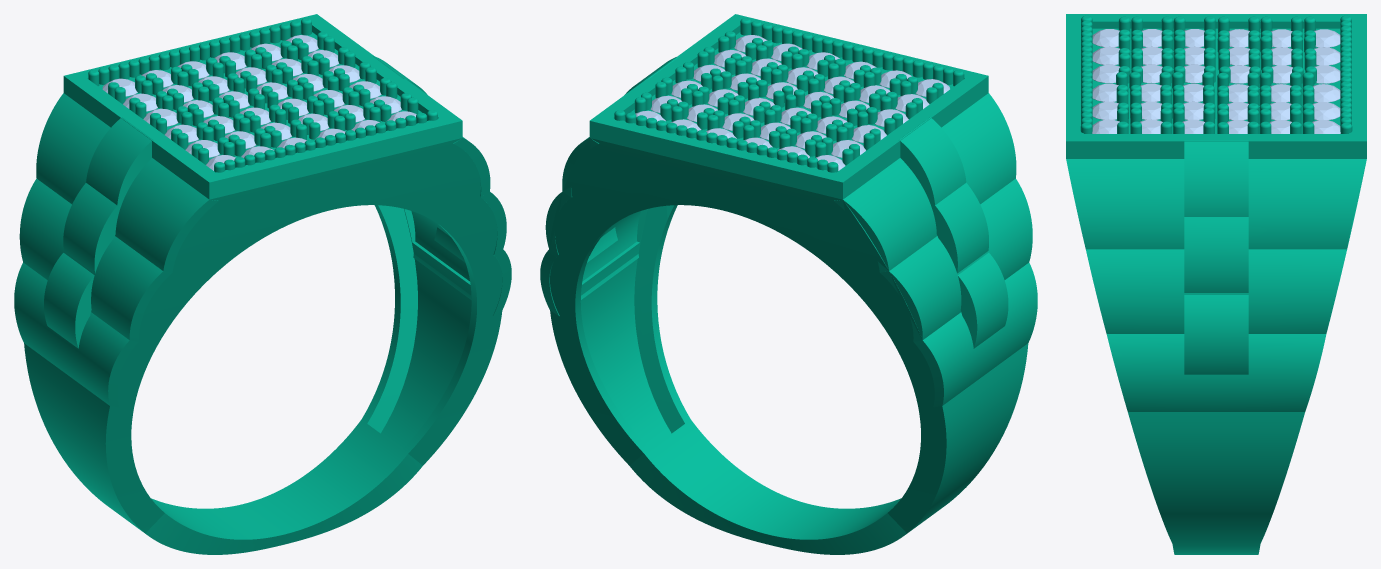
3 views of the same model, side by side, from view 1: azimuth 30°, elevation 25°; view 2: azimuth 150°, elevation 25°; view 3: azimuth 270°, elevation 25° (orthographic). The views are drawn at different scales.
Visible parts, largest first — view 1: 71 Anillo Hombre Rolex.3dm; view 2: 71 Anillo Hombre Rolex.3dm; view 3: 71 Anillo Hombre Rolex.3dm, Diamond_Round (×10).
Part boxes in pixels (x1,y1,x2,y2): 71 Anillo Hombre Rolex.3dm: [14, 14, 511, 554]; 71 Anillo Hombre Rolex.3dm: [540, 14, 1037, 554]; 71 Anillo Hombre Rolex.3dm: [1066, 14, 1366, 554]; Diamond_Round (×10): [1092, 29, 1340, 120].
Size of the model in its own units: 2.56 by 2.64 by 1.59.
